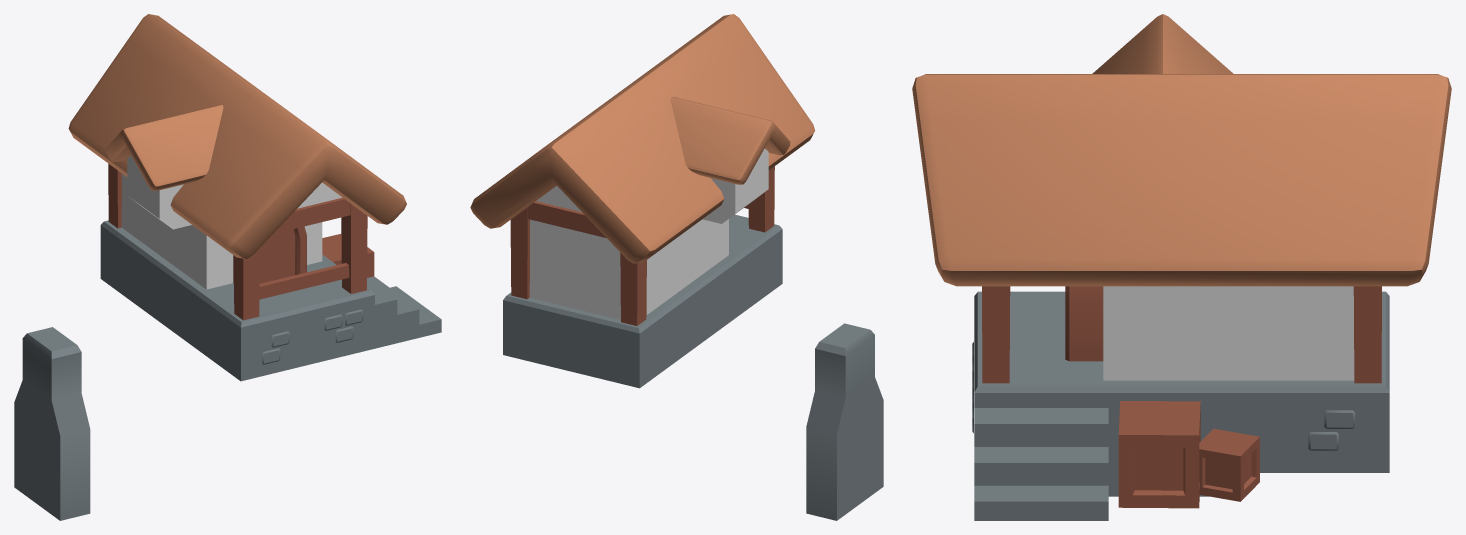
Rendered from watermill.dae.
The picture shows the model from 3 angles, left to right: view 1: azimuth 30°, elevation 25°; view 2: azimuth 150°, elevation 25°; view 3: azimuth 270°, elevation 25°; orthographic projection. The views are drawn at different scales.
Parts seen in each view (by area): view 1: watermill; view 2: watermill; view 3: watermill.
Boxes of the visible parts, bbox=[...] form: watermill: bbox=[14, 14, 441, 520]; watermill: bbox=[470, 14, 883, 520]; watermill: bbox=[912, 14, 1451, 520].
Size of the model in its own units: 1.53 by 1.42 by 1.6.
